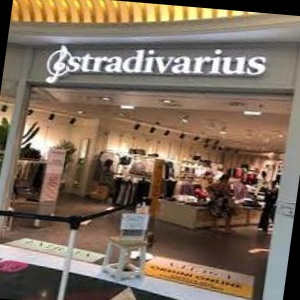stradivarius: (33, 55, 300, 104)
